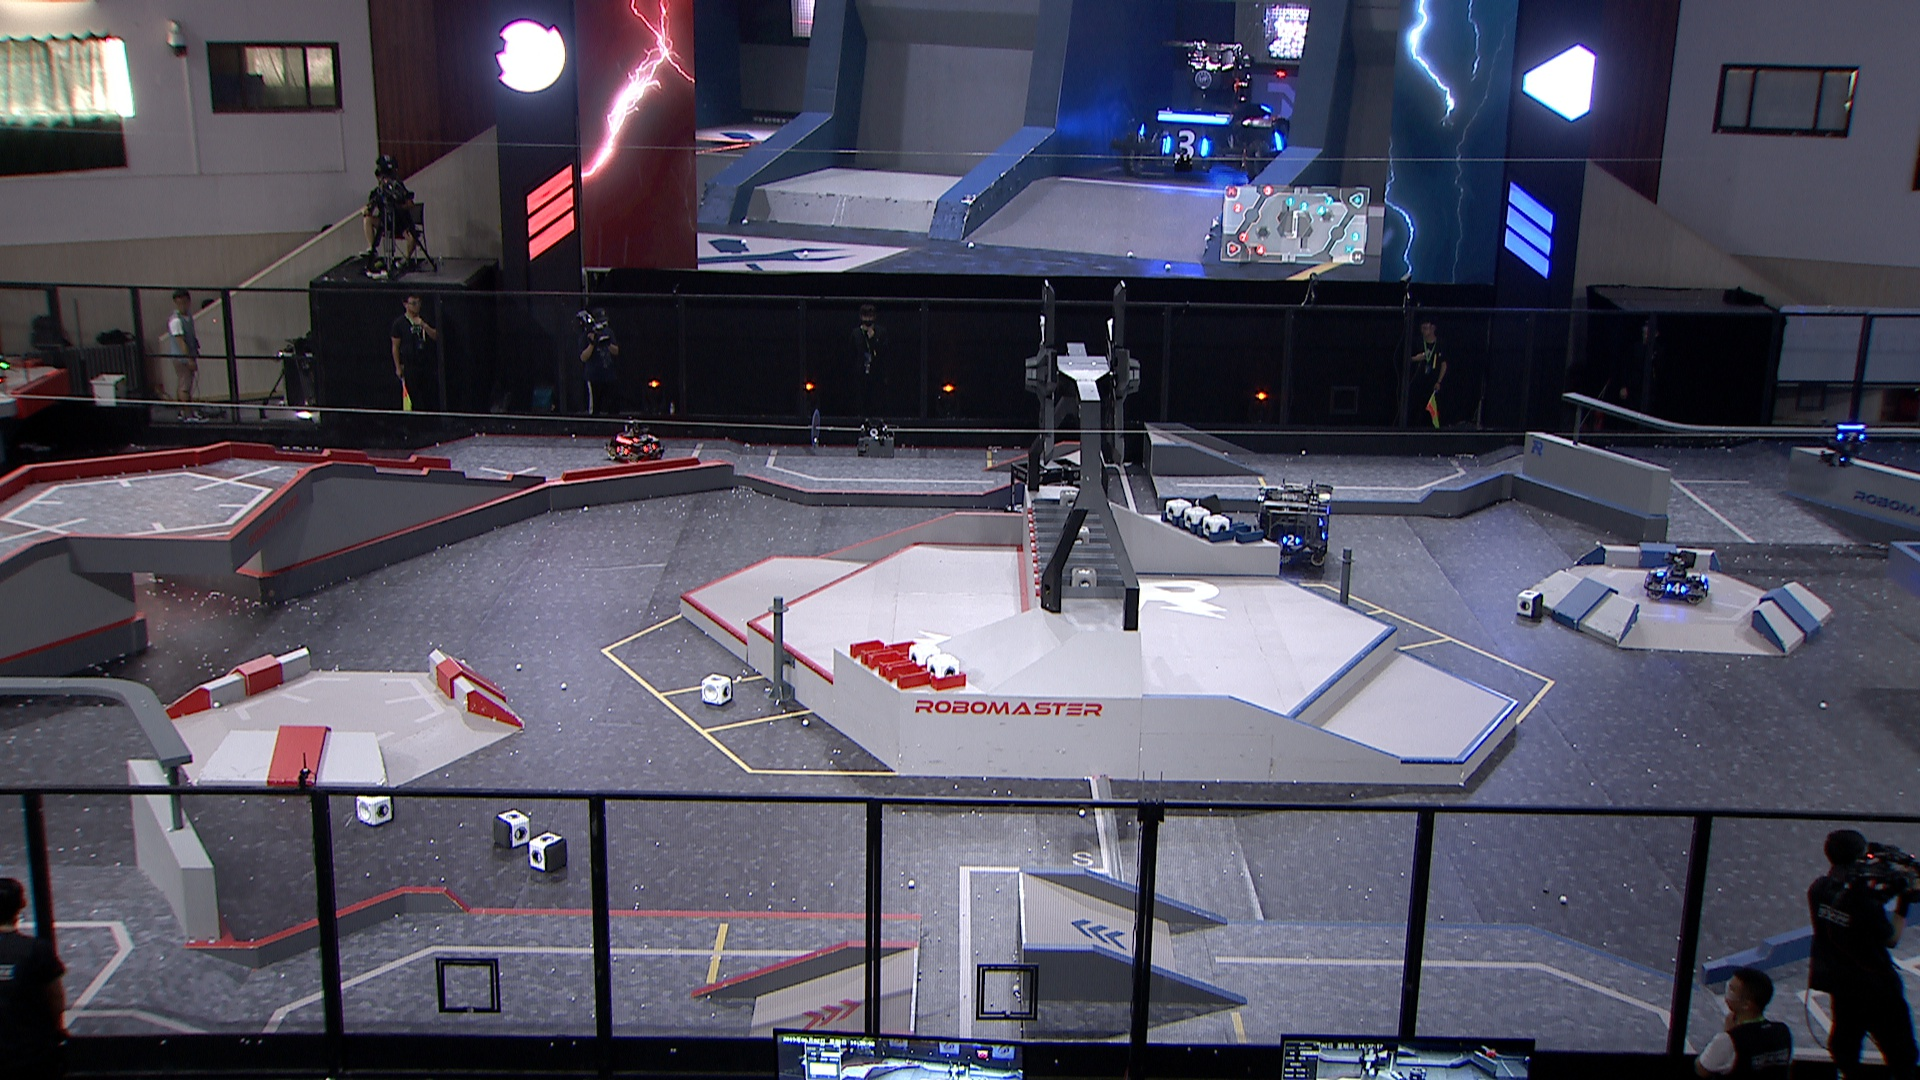armor: (1280, 533, 1302, 549), (1665, 582, 1689, 595), (1837, 433, 1865, 443), (642, 443, 659, 456), (615, 446, 632, 458), (1655, 566, 1669, 578)
car: (1255, 481, 1337, 564), (1002, 458, 1091, 534), (1642, 550, 1713, 607), (600, 419, 666, 465)
ignore: (1106, 41, 1296, 182)
watcher: (1820, 422, 1869, 467)
